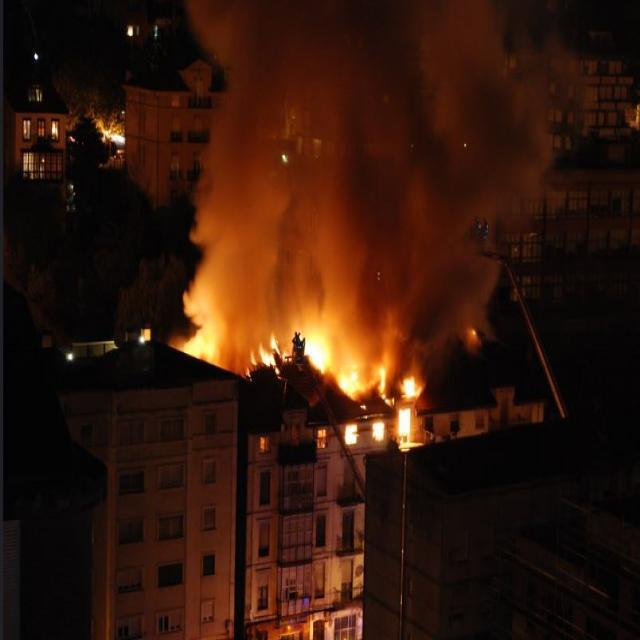Fire: (247, 323, 391, 399), (402, 371, 425, 399)
